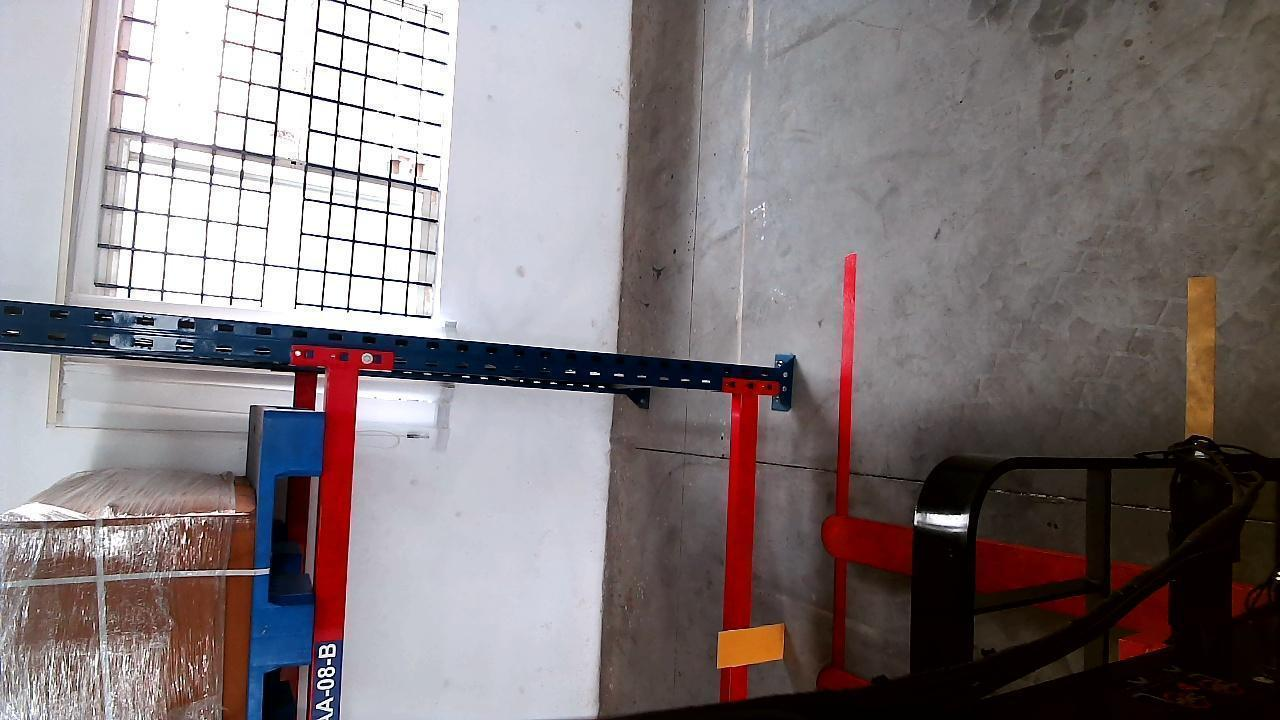red_line: (823, 248, 855, 711)
yellow_line: (1186, 274, 1215, 435)
